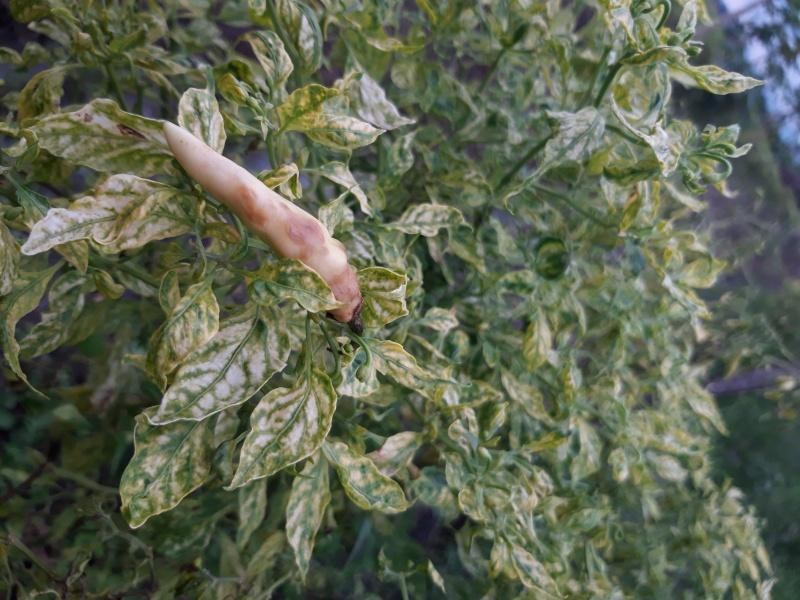lalat_buah: (161, 120, 363, 311)
